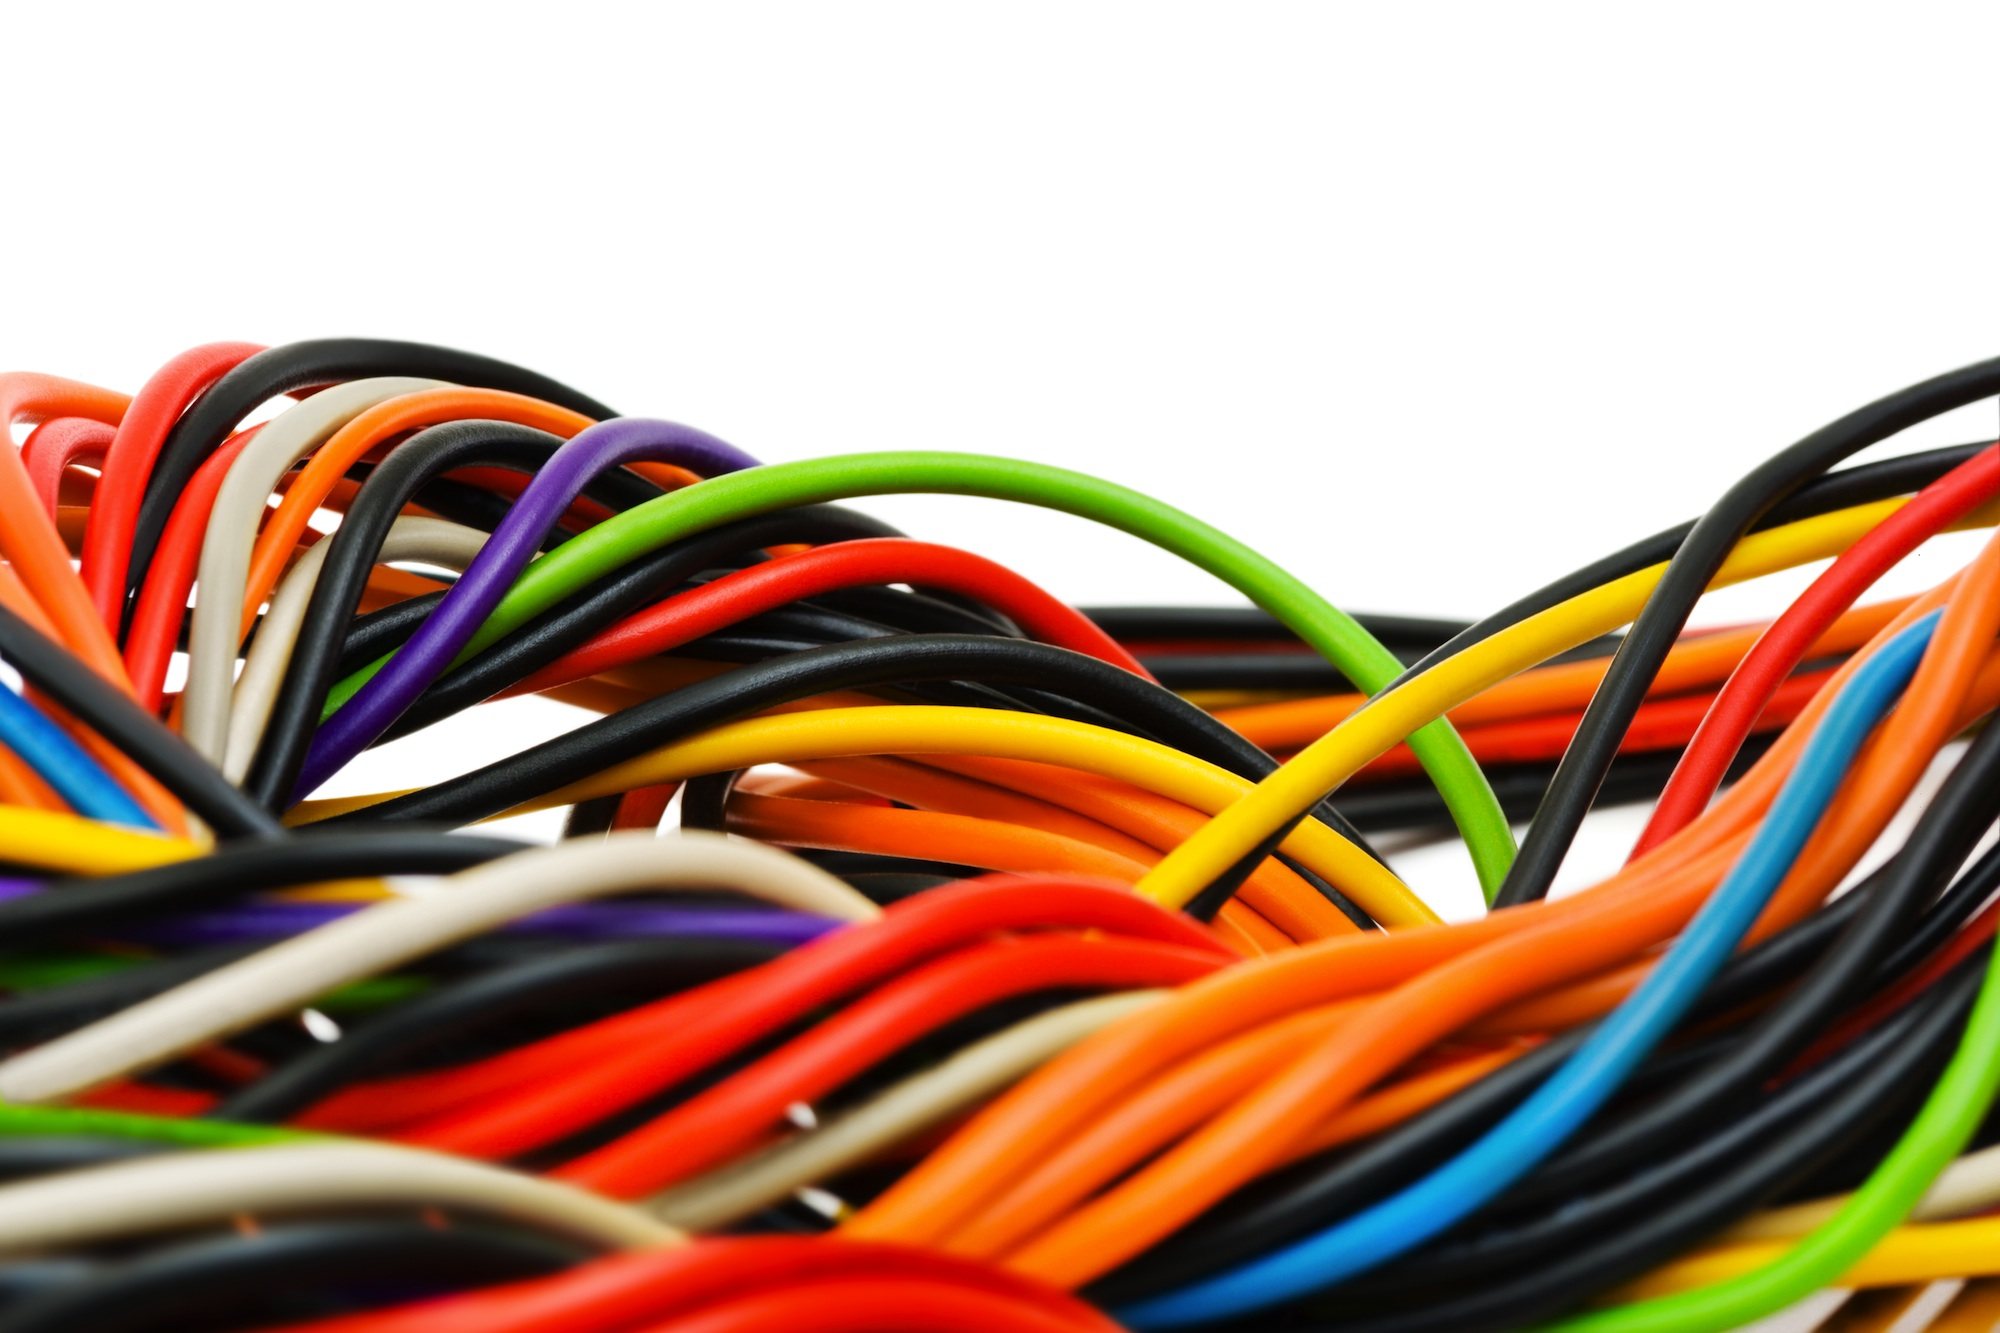Nonrec_Tangler: (4, 333, 1954, 1265)
